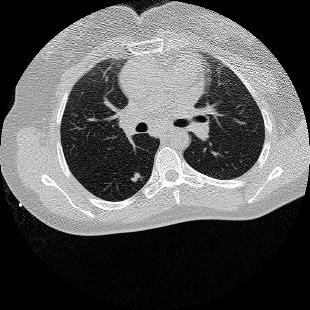nodule: (132, 174, 140, 182)
